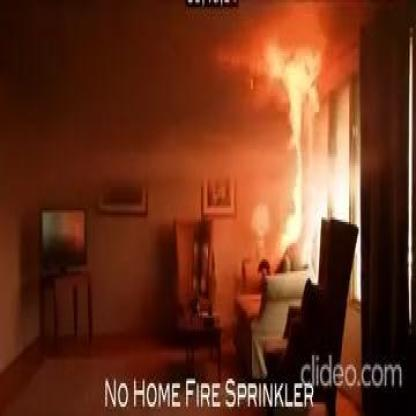fire: (250, 40, 321, 112), (280, 112, 304, 243)
